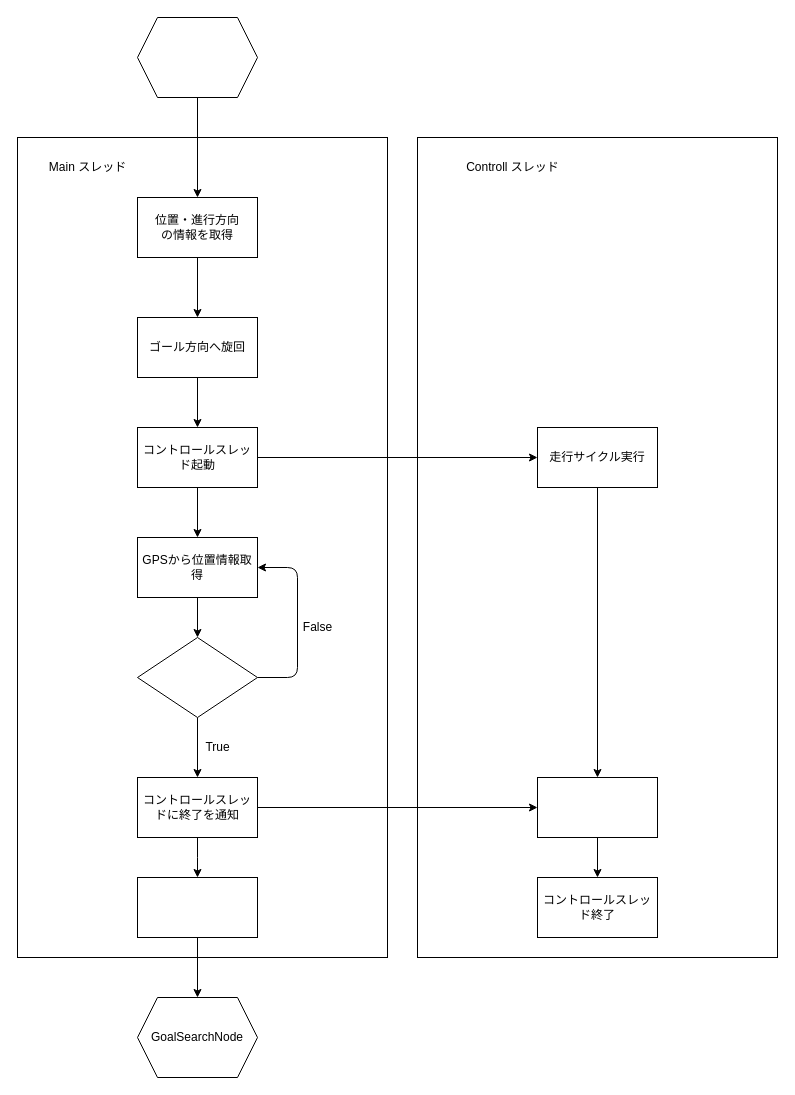
This 795x1095 diagram has some shape labels left out. The box of each missing label's shape, as (x1, y1, x2, y2) in pixels:
ParaseparateNode: (136, 16, 258, 98)
コントロールスレッドの終了を確認: (136, 876, 258, 938)
ゴール付近到着: (136, 636, 258, 718)
スレッド終了の通知を受け取る: (536, 776, 658, 838)
